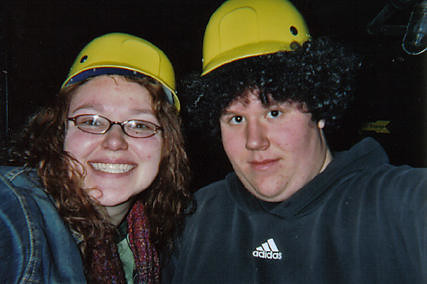person hardhat: (188, 1, 425, 284), (1, 28, 189, 284)
